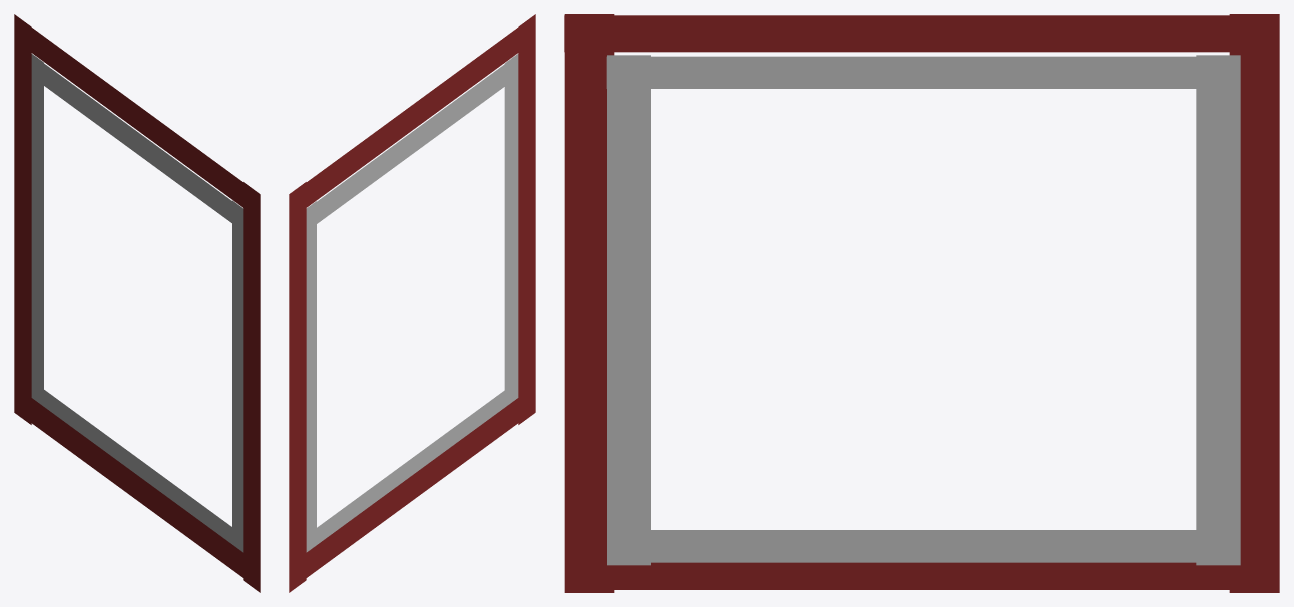
Rendered from double-cab-lining.dae.
3 views of the same model, side by side, from view 1: azimuth 30°, elevation 25°; view 2: azimuth 150°, elevation 25°; view 3: azimuth 270°, elevation 25° (orthographic). The views are drawn at different scales.
Parts seen in each view (by area): view 1: Plane_003, Plane_004, Plane_002, Plane_001, Plane_002_001, Plane_003_001, Plane_004_001, Plane_001_001; view 2: Plane_003, Plane_004, Plane_002, Plane_001, Plane_004_001, Plane_002_001, Plane_003_001, Plane_001_001; view 3: Plane_004, Plane_003, Plane_002, Plane_003_001, Plane_004_001, Plane_001_001, Plane_002_001, Plane_001.
Part boxes in pixels (box(x1,y1,x2,y2)): Plane_003: box(14, 14, 31, 424); Plane_004: box(243, 182, 260, 592); Plane_002: box(31, 27, 260, 220); Plane_001: box(29, 398, 246, 580); Plane_002_001: box(43, 63, 243, 231); Plane_003_001: box(31, 54, 43, 406); Plane_004_001: box(232, 200, 243, 552); Plane_001_001: box(44, 390, 231, 543); Plane_003: box(289, 182, 306, 592); Plane_004: box(518, 14, 535, 424); Plane_002: box(306, 16, 535, 207); Plane_001: box(304, 398, 518, 579); Plane_004_001: box(504, 54, 518, 407); Plane_002_001: box(316, 55, 518, 224); Plane_003_001: box(306, 201, 316, 552); Plane_001_001: box(317, 390, 504, 544); Plane_004: box(564, 14, 614, 592); Plane_003: box(1229, 14, 1279, 592); Plane_002: box(564, 15, 1229, 52); Plane_003_001: box(1196, 55, 1240, 565); Plane_004_001: box(607, 55, 650, 565); Plane_001_001: box(642, 530, 1201, 562); Plane_002_001: box(606, 56, 1196, 88); Plane_001: box(604, 553, 1235, 589).
Size of the model in its own units: 0.00186 by 0.7173 by 0.6408.
